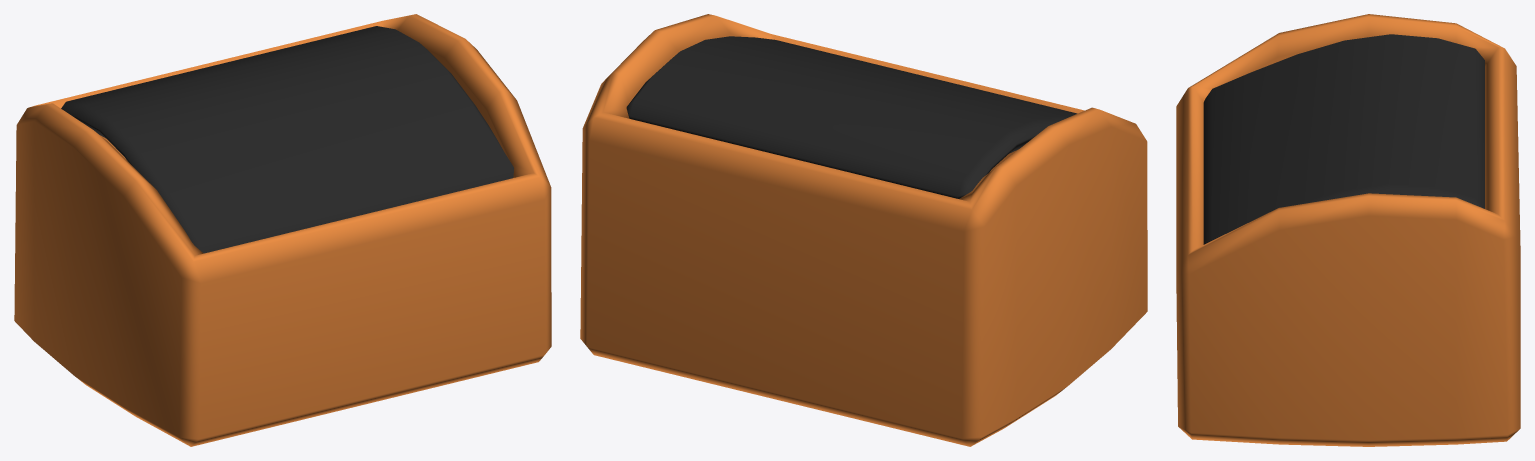
Rendered from SM_Trash_Container_01.fbx.
3 renders of one model, left to right at view 1: azimuth 30°, elevation 25°; view 2: azimuth 150°, elevation 25°; view 3: azimuth 270°, elevation 25°, orthographic. The views are drawn at different scales.
Visible parts, largest first — view 1: SM_Trash_Dumpster, Cube; view 2: SM_Trash_Dumpster, Cube; view 3: SM_Trash_Dumpster, Cube.
Boxes of the visible parts, x1,y1,x2,y2 form: SM_Trash_Dumpster: (14, 14, 551, 446); Cube: (61, 26, 513, 253); SM_Trash_Dumpster: (580, 14, 1147, 446); Cube: (626, 36, 1077, 198); SM_Trash_Dumpster: (1176, 14, 1520, 446); Cube: (1203, 34, 1484, 244).
Bounding box in the file's own units: 464 × 279 × 348.
